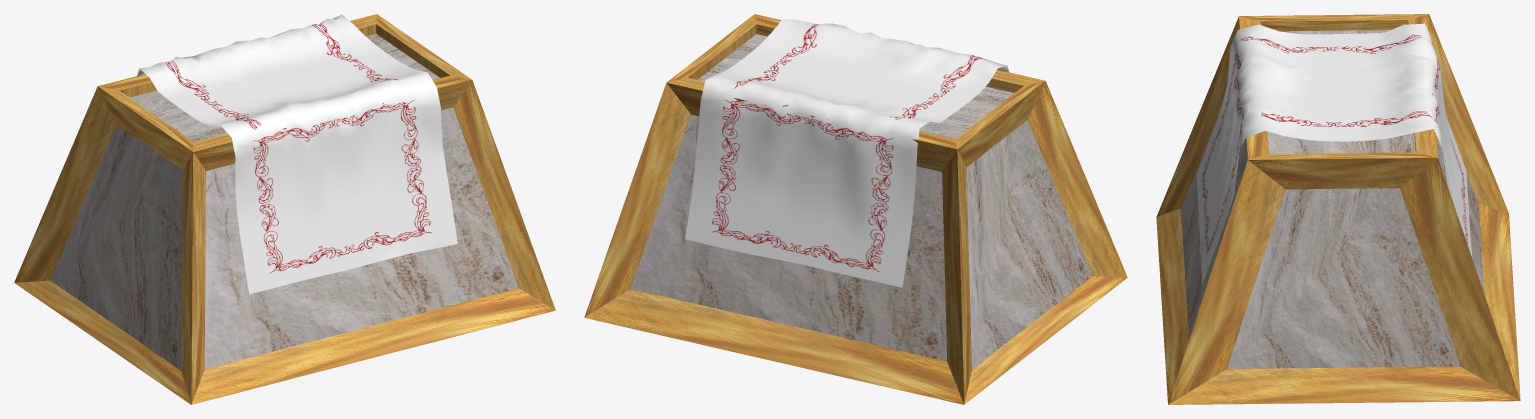
File: Altar.FBX
3 views of the same model, side by side, from view 1: azimuth 30°, elevation 25°; view 2: azimuth 150°, elevation 25°; view 3: azimuth 270°, elevation 25° (orthographic). The views are drawn at different scales.
Parts seen in each view (by area): view 1: Box01, Rectangle01; view 2: Box01, Rectangle01; view 3: Box01, Rectangle01.
Boxes of the visible parts, left/top/right/bottom form: Box01: left=14, top=14, right=555, bottom=404; Rectangle01: left=137, top=14, right=457, bottom=294; Box01: left=584, top=14, right=1127, bottom=404; Rectangle01: left=685, top=18, right=1009, bottom=287; Box01: left=1156, top=14, right=1520, bottom=404; Rectangle01: left=1196, top=23, right=1472, bottom=284.
Size of the model in its own units: 91.31 by 52.15 by 73.3.
3 materials, 3 textured.
